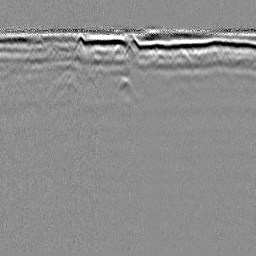cavity: (112, 75, 136, 98)
